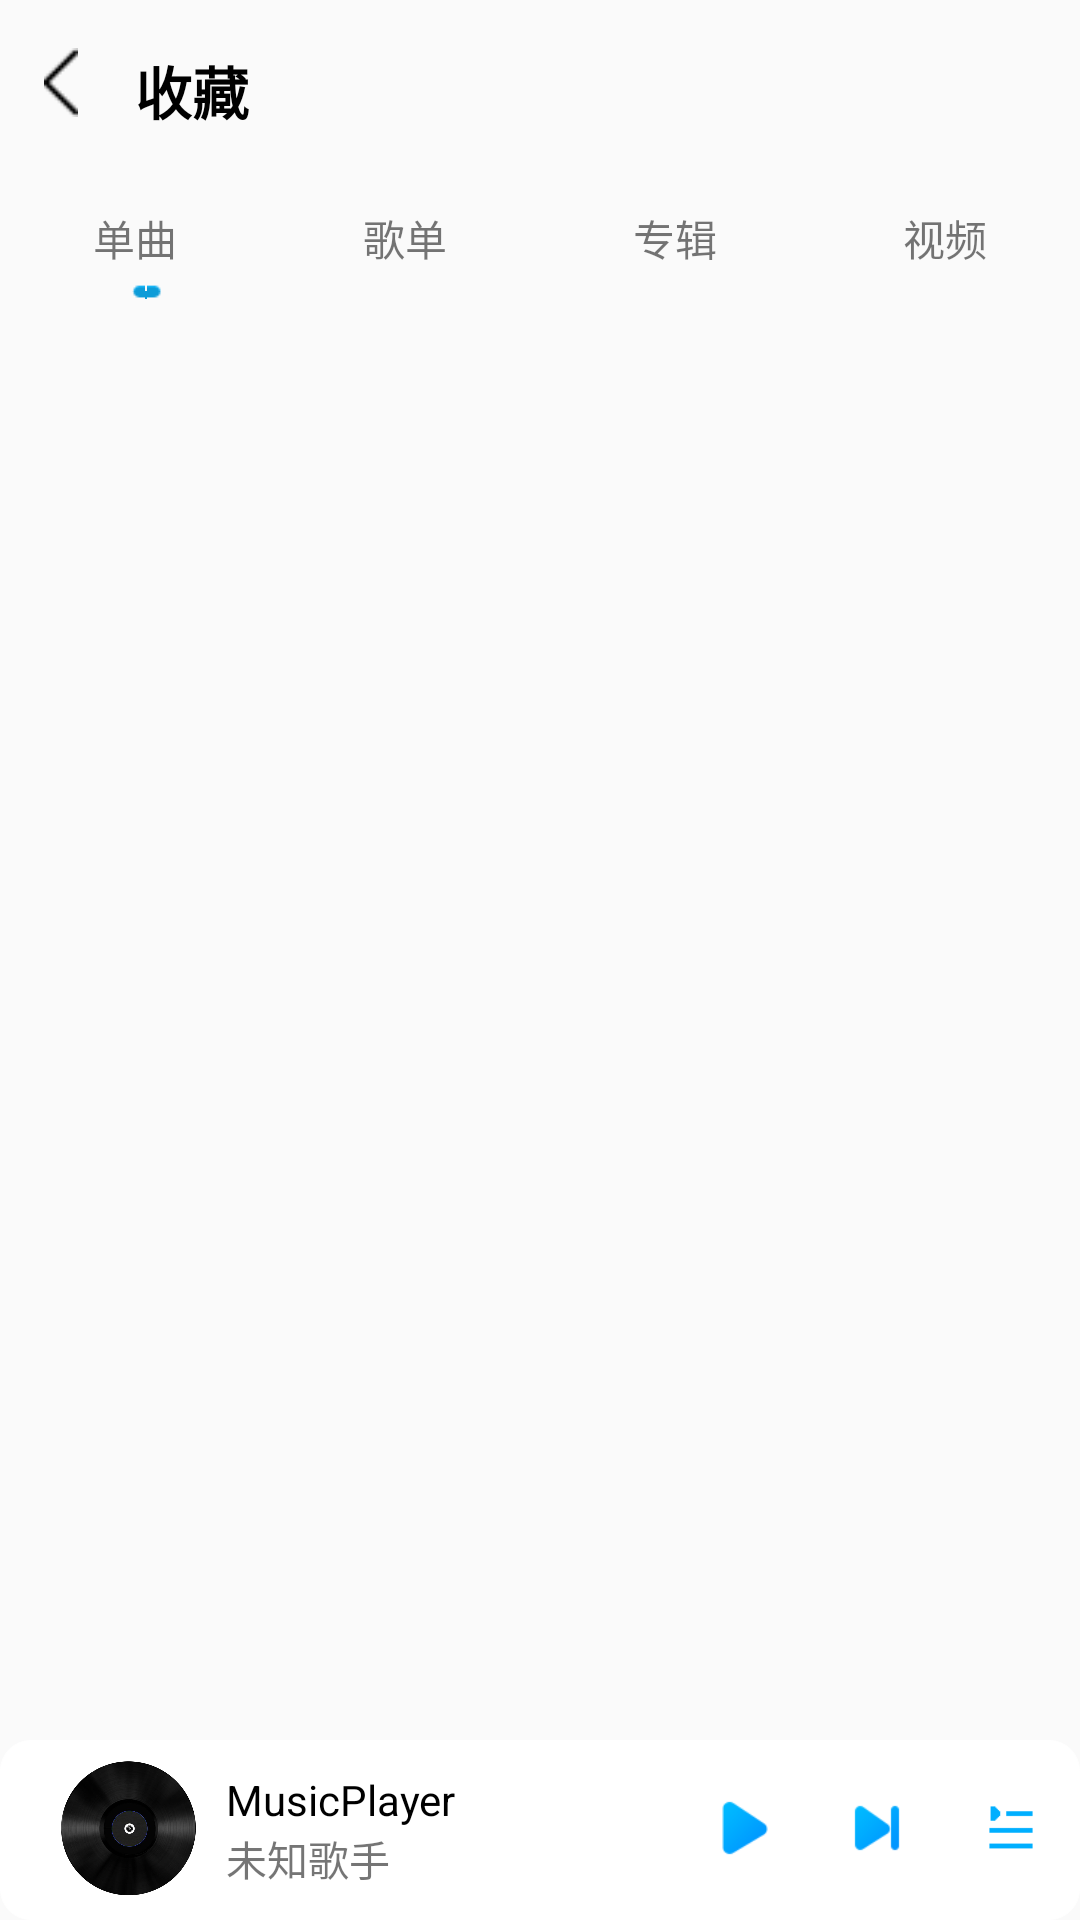

Screen size 1080w x 1920h. Icon name, then its box in pixels as (x1, y1, x2, y2):
musiclist: (989, 1806, 1033, 1849)
next: (854, 1805, 900, 1851)
recent back: (44, 48, 78, 117)
recode: (61, 1761, 196, 1895)
